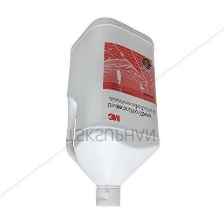cleaning_solution: (62, 14, 160, 209)
